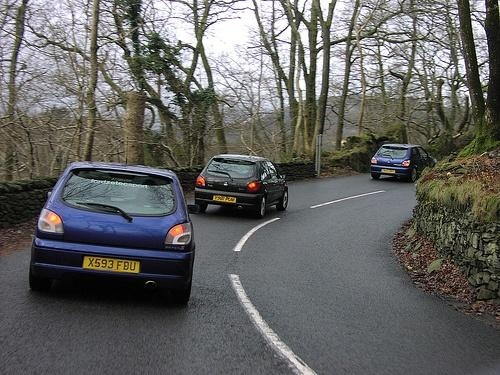car: (28, 160, 196, 306), (194, 155, 291, 218), (371, 142, 437, 182)
